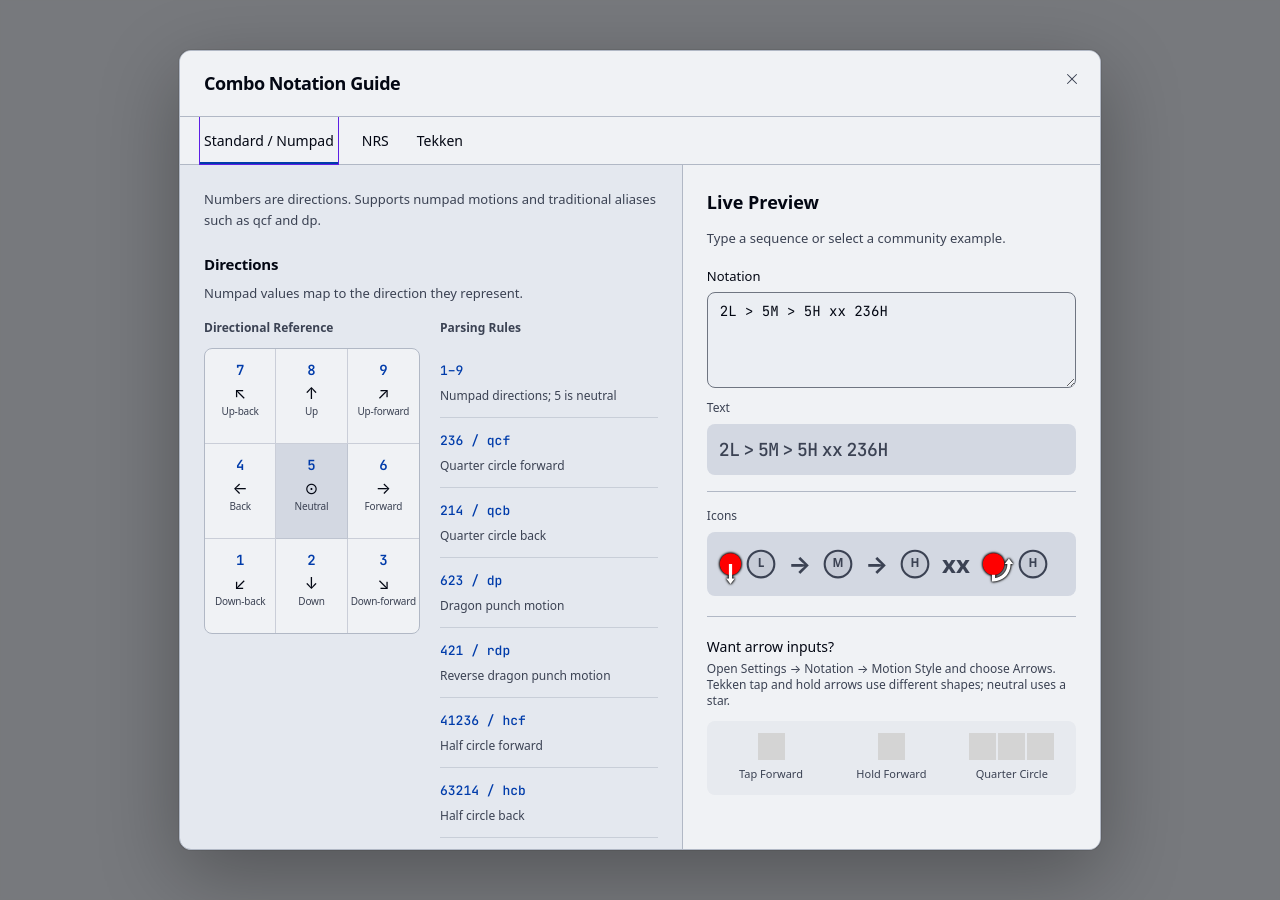
Test: NotationGuide › switches profiles and includes NRS directions and examples
The image size is (1280, 900).
Click the tab "NRS". click: (375, 141)
box: [358,117,393,164]
(page scrolled)
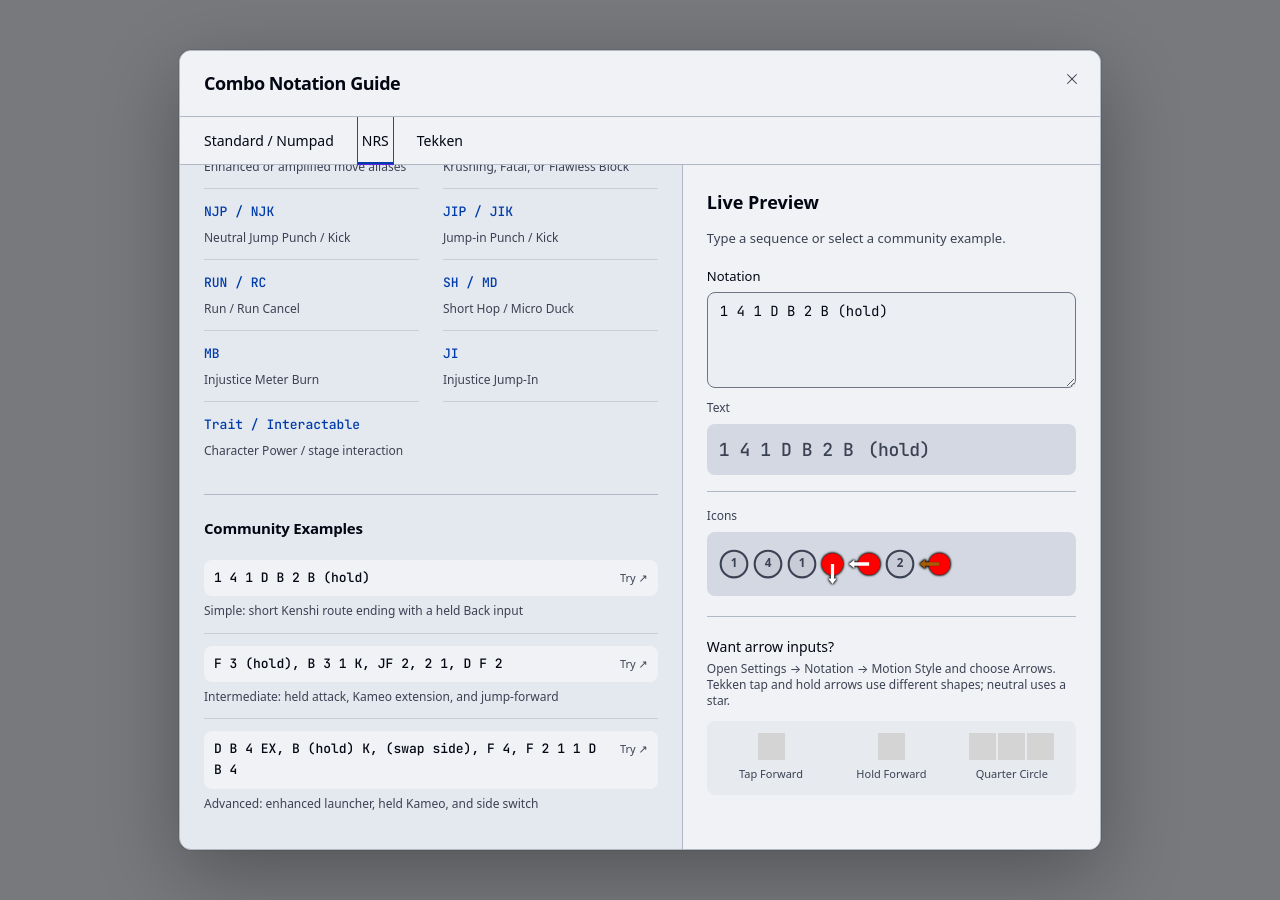
Now the text "Simple: short Kenshi route ending with a held Back input" is shown, box [204,602,523,619]
Now the text "Intermediate: held attack, Kameo extension, and jump-forward" is shown, box [204,688,559,705]
Now the text "Advanced: enhanced launcher, held Kameo, and side switch" is shown, box [204,795,538,812]
